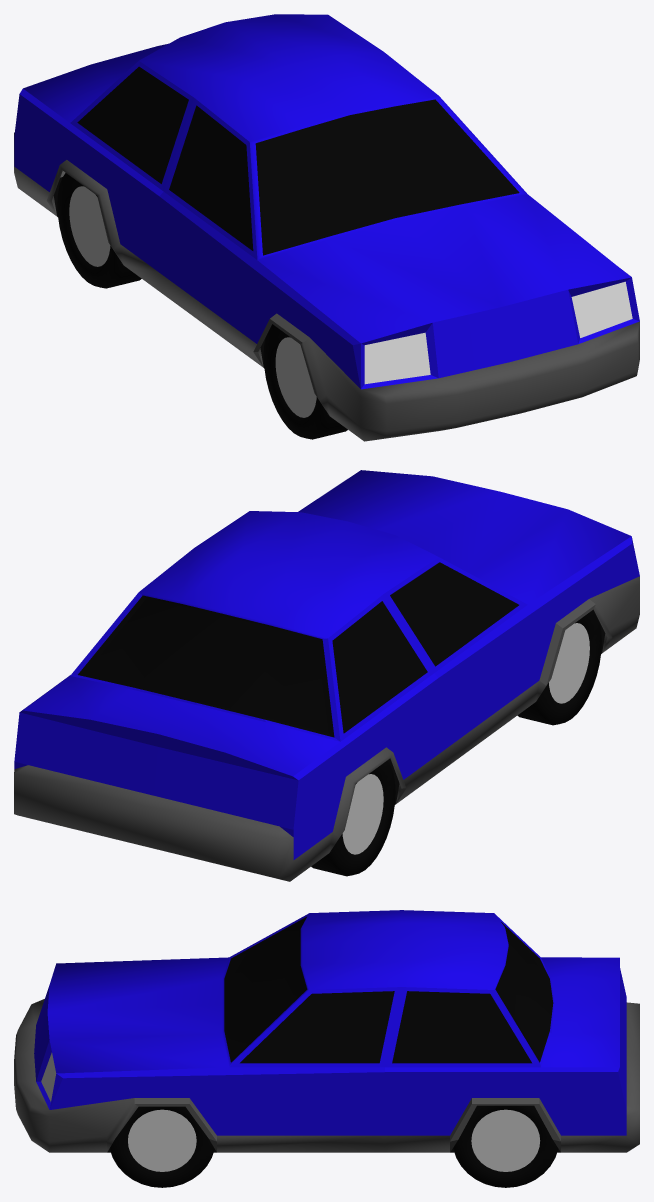
Rendered from bluecar.glb.
The picture shows the model from 3 angles, top to bottom: view 1: azimuth 30°, elevation 25°; view 2: azimuth 150°, elevation 25°; view 3: azimuth 270°, elevation 25°; orthographic projection. The views are drawn at different scales.
Visible parts, largest first — view 1: Car.001, Car; view 2: Car.001, Car; view 3: Car.001, Car.
Boxes of the visible parts, x1=… form: Car.001: x1=14, y1=14, x2=639, y2=389; Car: x1=14, y1=66, x2=639, y2=441; Car.001: x1=14, y1=470, x2=639, y2=859; Car: x1=14, y1=562, x2=639, y2=881; Car.001: x1=34, y1=910, x2=626, y2=1135; Car: x1=14, y1=917, x2=639, y2=1187.
Size of the model in its own units: 2.1 by 1.59 by 4.66.
